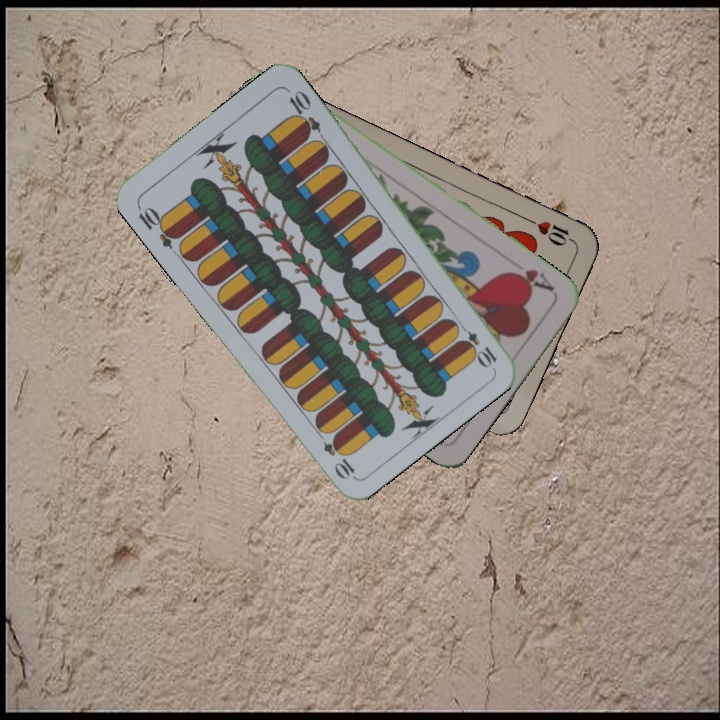E10: (133, 201, 182, 251), (453, 318, 500, 370)
H10: (523, 214, 579, 249)
HA: (503, 264, 558, 295)
